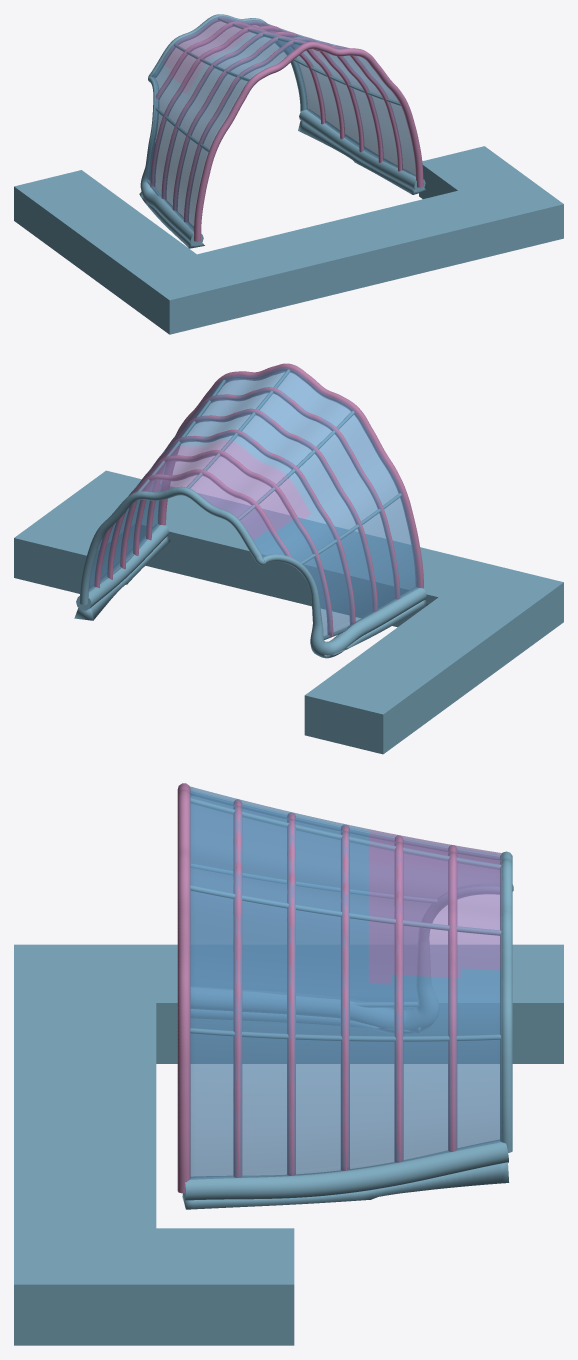
File: cove-corner-with-apron-v2.glb
The picture shows the model from 3 angles, top to bottom: view 1: azimuth 30°, elevation 25°; view 2: azimuth 150°, elevation 25°; view 3: azimuth 270°, elevation 25°; orthographic projection. The views are drawn at different scales.
Visible parts, largest first — view 1: P04 candidate / shared apron exact world floor and bank, Harbor / continuous translucent shell hall, Harbor / curved shell structural rib, Harbor / continuous entrance runner jamb rear arch, Harbor / curved shell structural rib.001, Harbor / curved shell structural rib.002, Harbor / shell grown footing.001, Harbor / curved shell structural rib.003, Harbor / curved shell structural rib.004, Harbor / corner structural rib joined to rim, Harbor / continuous grounded runner socket right; view 2: P04 candidate / shared apron exact world floor and bank, Harbor / continuous translucent shell hall, Harbor / continuous entrance runner jamb rear arch, Harbor / curved shell structural rib, Harbor / curved shell structural rib.001, Harbor / curved shell structural rib.002, Harbor / curved shell structural rib.003, Harbor / curved shell structural rib.004, Harbor / shell grown footing.001, Harbor / corner structural rib joined to rim, Harbor / continuous grounded runner socket right, Harbor / continuous grounded runner socket left (+2 smaller); view 3: Harbor / continuous translucent shell hall, P04 candidate / shared apron exact world floor and bank, Harbor / continuous entrance runner jamb rear arch, Harbor / shell grown footing.001, Harbor / curved shell structural rib, Harbor / curved shell structural rib.001, Harbor / continuous grounded runner socket right, Harbor / curved shell structural rib.002, Harbor / curved shell structural rib.004, Harbor / curved shell structural rib.003, Harbor / corner structural rib joined to rim, Harbor / shell longitudinal seam.001 (+5 smaller).
Boxes of the visible parts, x1=… form: P04 candidate / shared apron exact world floor and bank: x1=14, y1=146, x2=563, y2=334; Harbor / continuous translucent shell hall: x1=146, y1=16, x2=415, y2=231; Harbor / curved shell structural rib: x1=194, y1=41, x2=423, y2=241; Harbor / continuous entrance runner jamb rear arch: x1=140, y1=14, x2=307, y2=245; Harbor / curved shell structural rib.001: x1=184, y1=39, x2=402, y2=222; Harbor / curved shell structural rib.002: x1=172, y1=36, x2=383, y2=210; Harbor / shell grown footing.001: x1=299, y1=109, x2=425, y2=191; Harbor / curved shell structural rib.003: x1=161, y1=31, x2=364, y2=199; Harbor / curved shell structural rib.004: x1=150, y1=26, x2=344, y2=187; Harbor / corner structural rib joined to rim: x1=155, y1=21, x2=325, y2=124; Harbor / continuous grounded runner socket right: x1=298, y1=120, x2=426, y2=194; P04 candidate / shared apron exact world floor and bank: x1=14, y1=470, x2=563, y2=754; Harbor / continuous translucent shell hall: x1=88, y1=367, x2=419, y2=639; Harbor / continuous entrance runner jamb rear arch: x1=79, y1=486, x2=426, y2=658; Harbor / curved shell structural rib: x1=158, y1=363, x2=423, y2=588; Harbor / curved shell structural rib.001: x1=146, y1=387, x2=400, y2=599; Harbor / curved shell structural rib.002: x1=133, y1=408, x2=377, y2=611; Harbor / curved shell structural rib.003: x1=120, y1=429, x2=355, y2=624; Harbor / curved shell structural rib.004: x1=107, y1=450, x2=333, y2=636; Harbor / shell grown footing.001: x1=76, y1=524, x2=168, y2=610; Harbor / corner structural rib joined to rim: x1=94, y1=469, x2=292, y2=588; Harbor / continuous grounded runner socket right: x1=74, y1=536, x2=170, y2=620; Harbor / continuous grounded runner socket left: x1=323, y1=600, x2=427, y2=657; Harbor / continuous translucent shell hall: x1=189, y1=786, x2=502, y2=1179; P04 candidate / shared apron exact world floor and bank: x1=14, y1=944, x2=563, y2=1345; Harbor / continuous entrance runner jamb rear arch: x1=191, y1=851, x2=513, y2=1152; Harbor / shell grown footing.001: x1=183, y1=1139, x2=508, y2=1201; Harbor / curved shell structural rib: x1=177, y1=783, x2=190, y2=1193; Harbor / curved shell structural rib.001: x1=233, y1=799, x2=242, y2=1177; Harbor / continuous grounded runner socket right: x1=182, y1=1162, x2=509, y2=1209; Harbor / curved shell structural rib.002: x1=287, y1=812, x2=295, y2=1175; Harbor / curved shell structural rib.004: x1=394, y1=835, x2=403, y2=1162; Harbor / curved shell structural rib.003: x1=341, y1=824, x2=349, y2=1170; Harbor / corner structural rib joined to rim: x1=448, y1=845, x2=457, y2=1151; Harbor / shell longitudinal seam.001: x1=190, y1=1028, x2=500, y2=1041.
Bounding box in the file's own units: 8.29 × 4.25 × 5.67.
